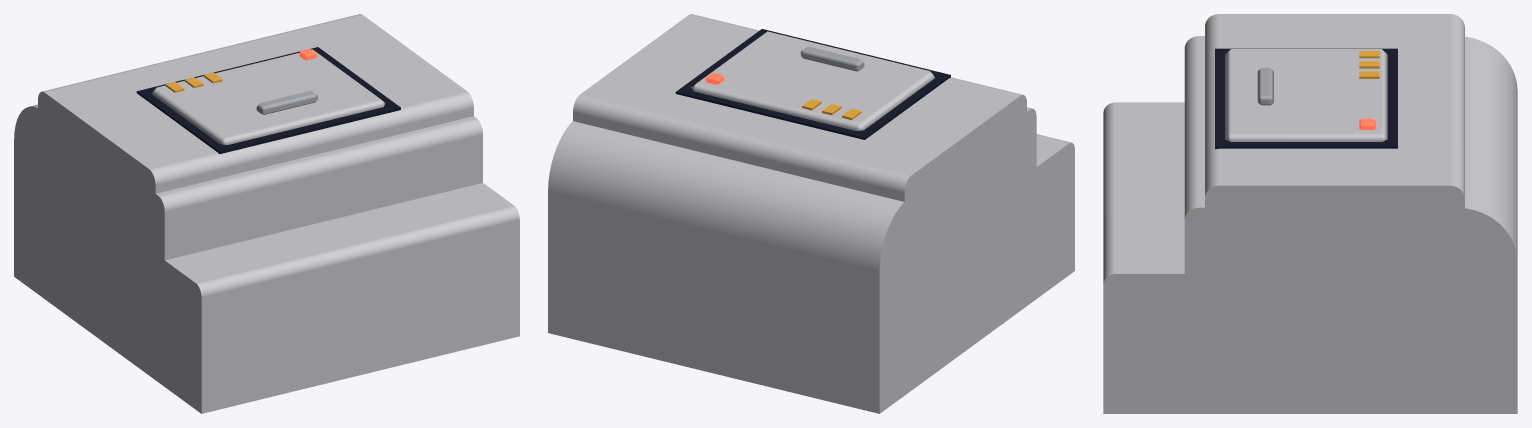
File: roof.shoulder.straight.hatch.s3.glb
The picture shows the model from 3 angles, left to right: view 1: azimuth 30°, elevation 25°; view 2: azimuth 150°, elevation 25°; view 3: azimuth 270°, elevation 25°; orthographic projection. The views are drawn at different scales.
Parts seen in each view (by area): view 1: roof.shoulder.straight.hatch.s3; view 2: roof.shoulder.straight.hatch.s3; view 3: roof.shoulder.straight.hatch.s3.
Boxes of the visible parts, x1,y1,x2,y2 form: roof.shoulder.straight.hatch.s3: [14, 14, 519, 413]; roof.shoulder.straight.hatch.s3: [548, 14, 1074, 413]; roof.shoulder.straight.hatch.s3: [1103, 14, 1517, 413].
Bounding box in the file's own units: 1 × 0.67 × 1.02.
